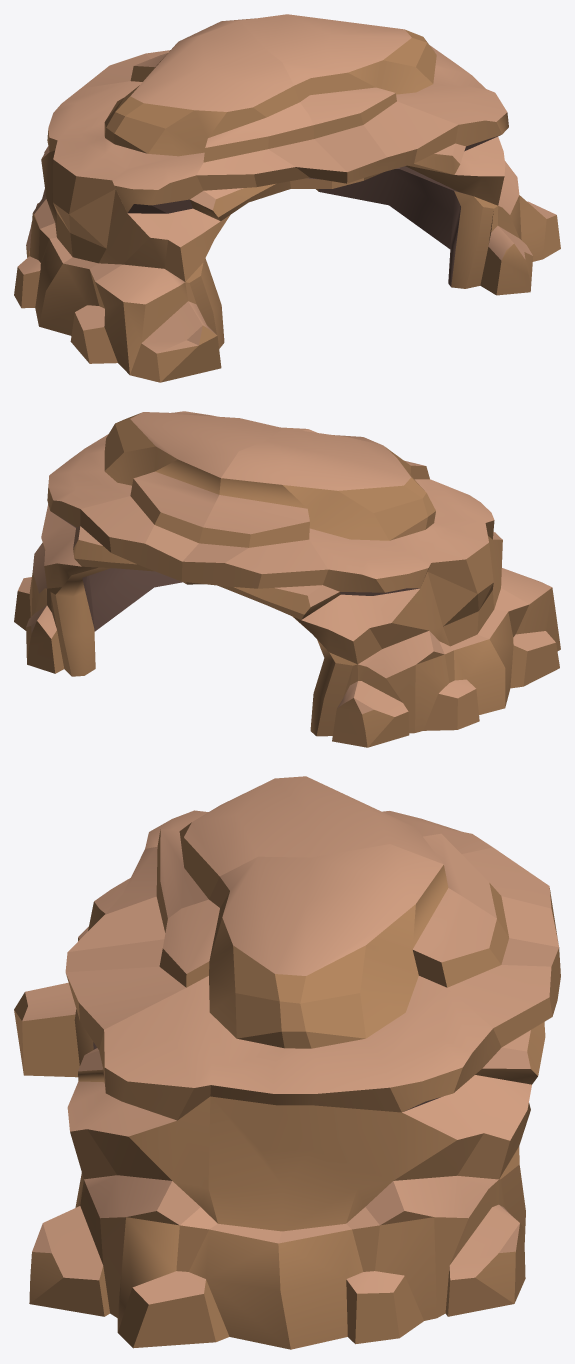
File: BO_CaveSpawn_01.fbx
3 renders of one model, top to bottom at view 1: azimuth 30°, elevation 25°; view 2: azimuth 150°, elevation 25°; view 3: azimuth 270°, elevation 25°, orthographic. The views are drawn at different scales.
Parts seen in each view (by area): view 1: BO_CaveSpawn_01; view 2: BO_CaveSpawn_01; view 3: BO_CaveSpawn_01.
Boxes of the visible parts, bbox=[...] form: BO_CaveSpawn_01: bbox=[14, 14, 560, 382]; BO_CaveSpawn_01: bbox=[14, 411, 560, 747]; BO_CaveSpawn_01: bbox=[14, 776, 560, 1349].
Bounding box in the file's own units: 3989 × 1809 × 2671.
